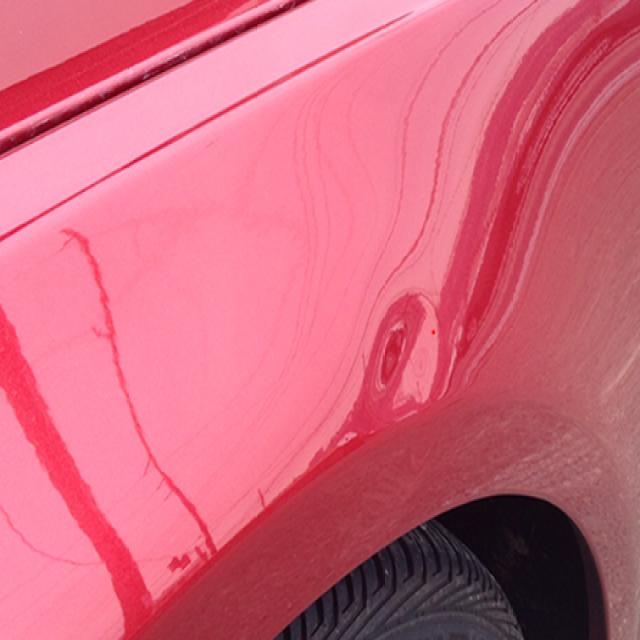dents: (349, 278, 453, 412)
